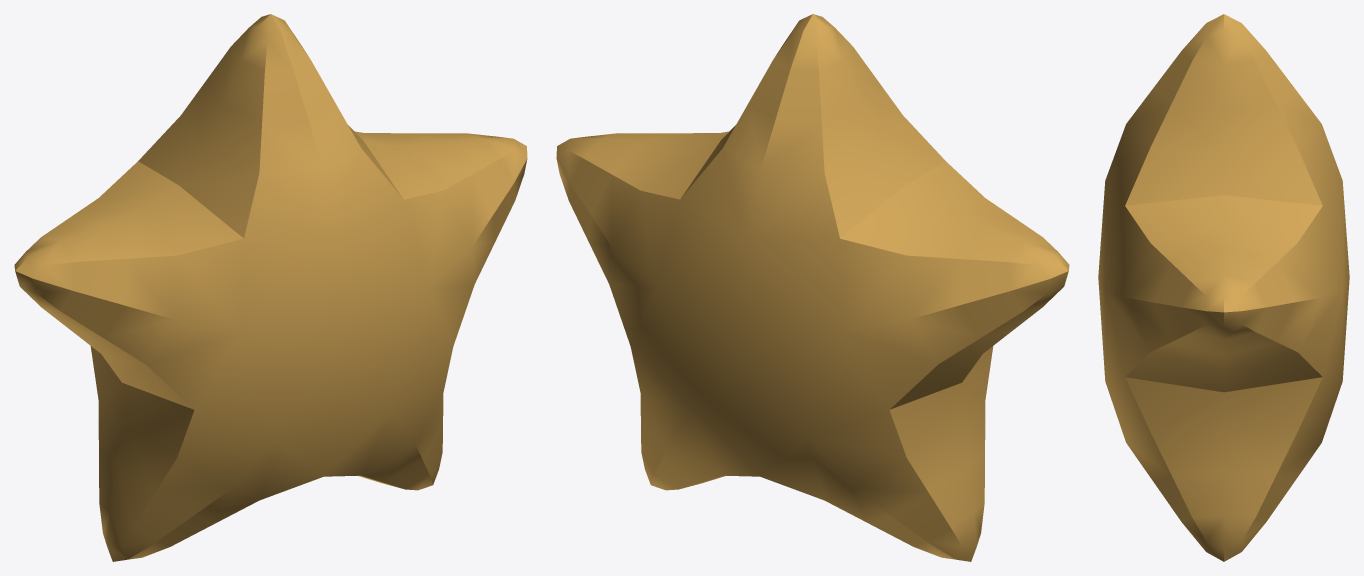
The model's file is star.glb.
3 views of the same model, side by side, from view 1: azimuth 30°, elevation 25°; view 2: azimuth 150°, elevation 25°; view 3: azimuth 270°, elevation 25° (orthographic). The views are drawn at different scales.
Visible parts, largest first — view 1: Star; view 2: Star; view 3: Star.
Part boxes in pixels (<box>): Star: <box>14,14,527,561</box>; Star: <box>556,14,1069,561</box>; Star: <box>1098,14,1349,561</box>.
Size of the model in its own units: 1.51 by 1.44 by 0.6879.
